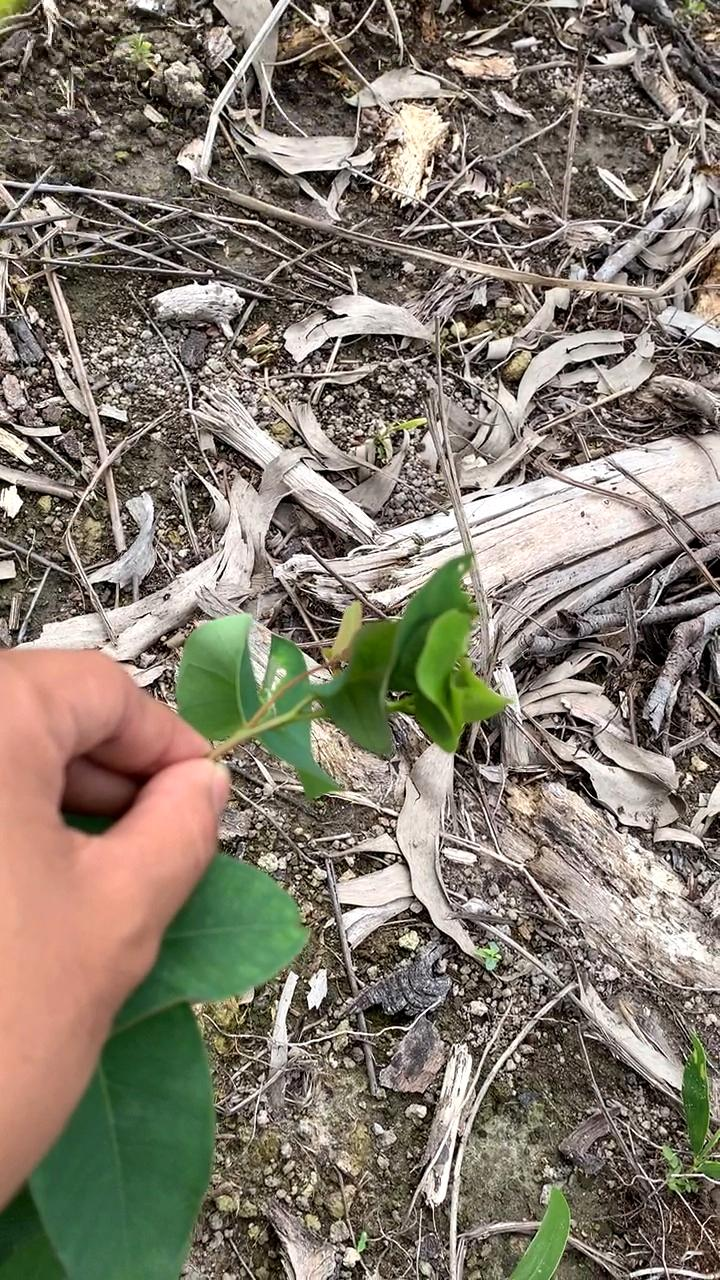Leaf Roller - Leaf: (320, 566, 523, 761)
